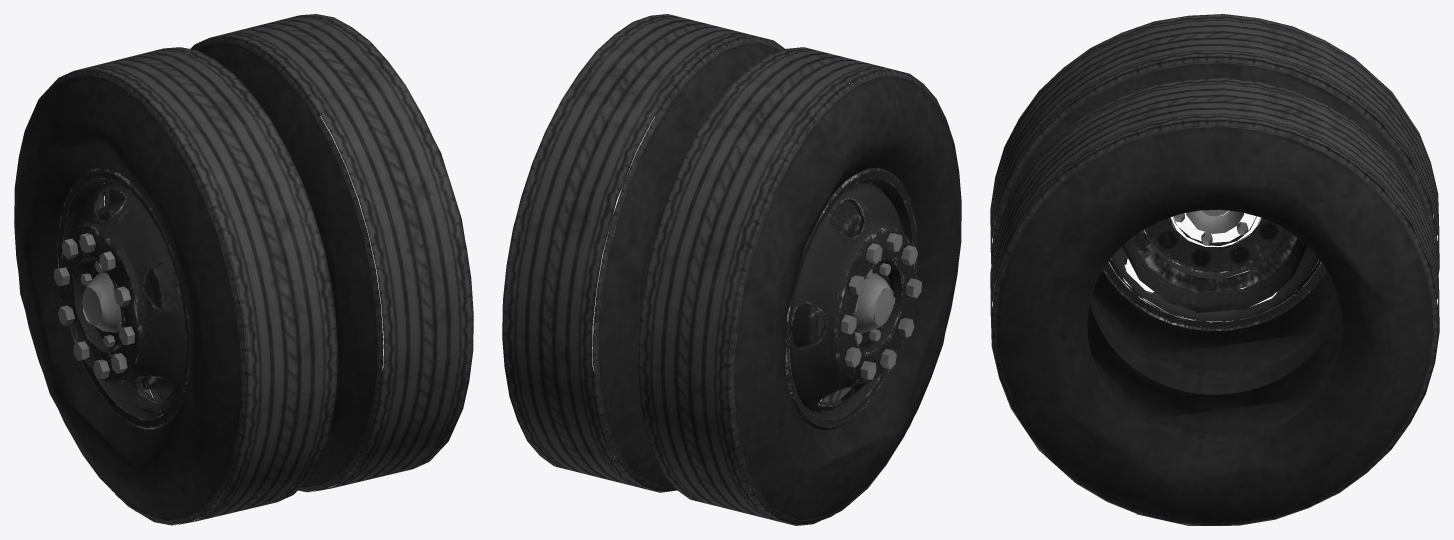
File: tm_wheel_a1_L.glb
3 views of the same model, side by side, from view 1: azimuth 30°, elevation 25°; view 2: azimuth 150°, elevation 25°; view 3: azimuth 270°, elevation 25° (orthographic). The views are drawn at different scales.
Parts seen in each view (by area): view 1: wheel_(1, 0); view 2: wheel_(1, 0); view 3: wheel_(1, 0).
Boxes of the visible parts, x1,y1,x2,y2 form: wheel_(1, 0): (14,14,473,525); wheel_(1, 0): (502,14,961,525); wheel_(1, 0): (990,14,1439,525).
Size of the model in its own units: 63.96 by 90.86 by 90.38.
1 material, 1 textured.
